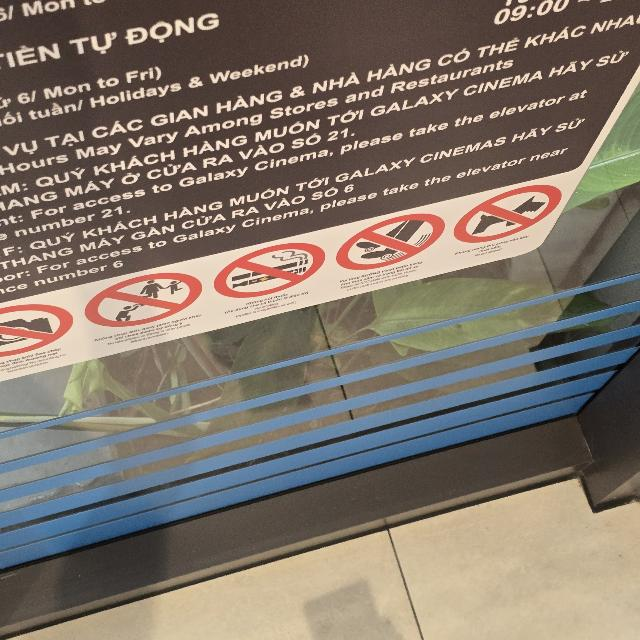cam hut thuoc: (214, 243, 324, 298)
